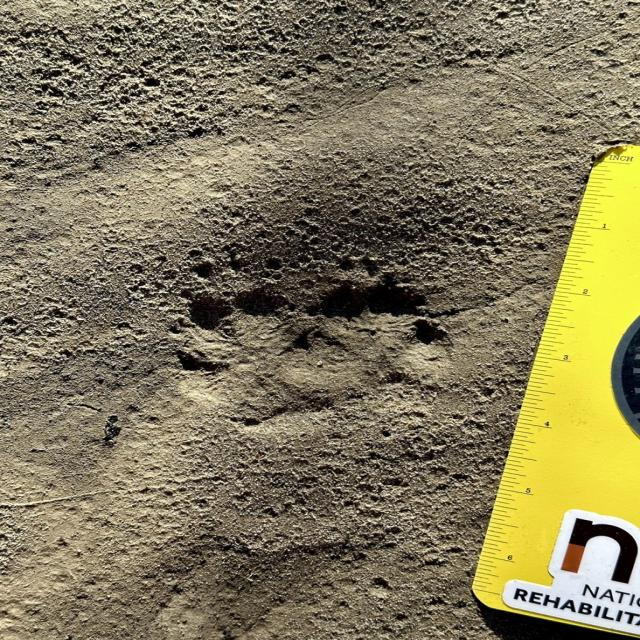canid: (299, 275, 451, 405), (182, 278, 299, 408)
